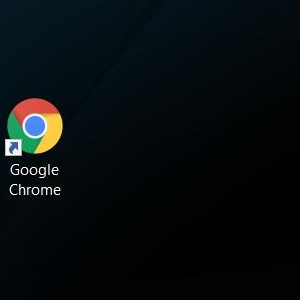chrome: (4, 97, 63, 156)
